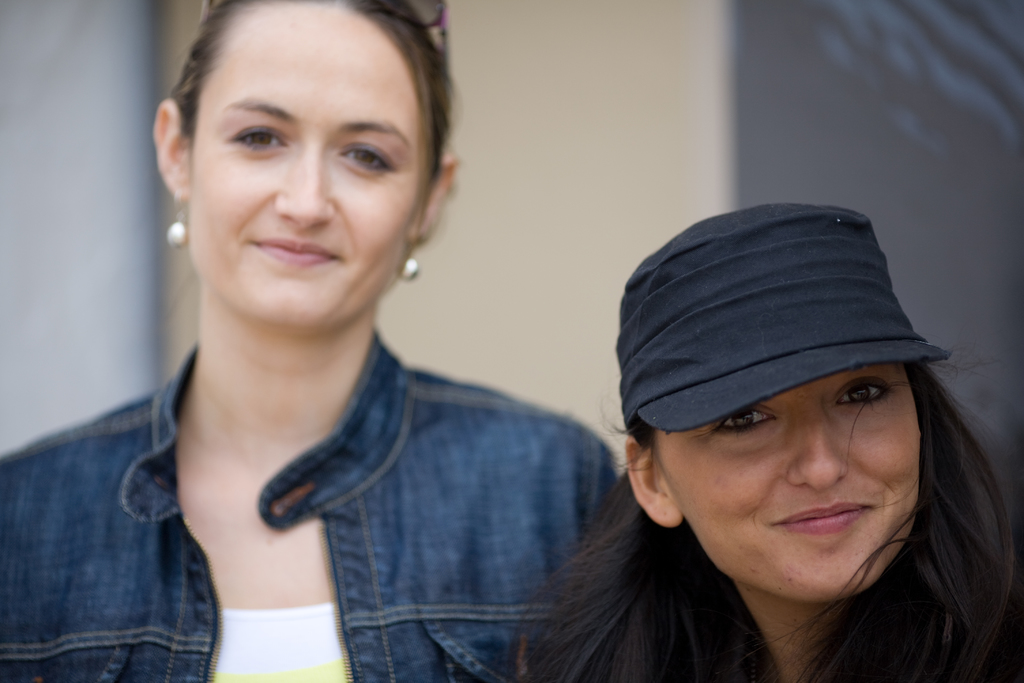Human-face: (188, 4, 416, 325), (650, 371, 920, 587)
